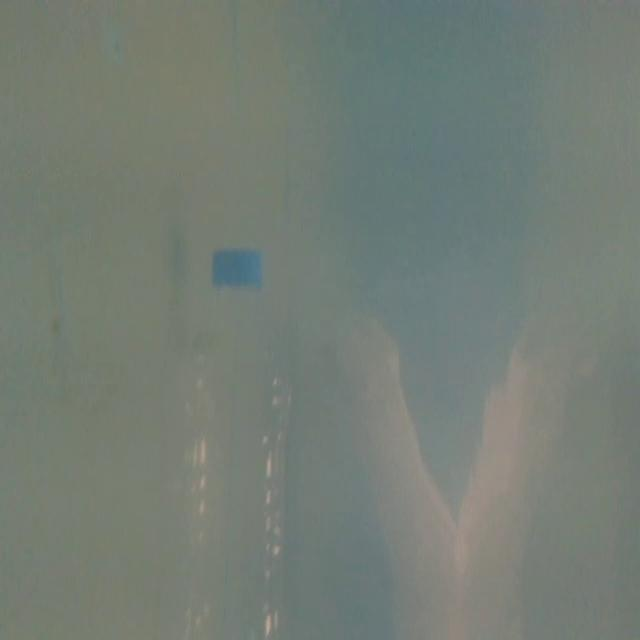plastic bags: (346, 309, 520, 639)
plastic bottle: (170, 238, 299, 640)
